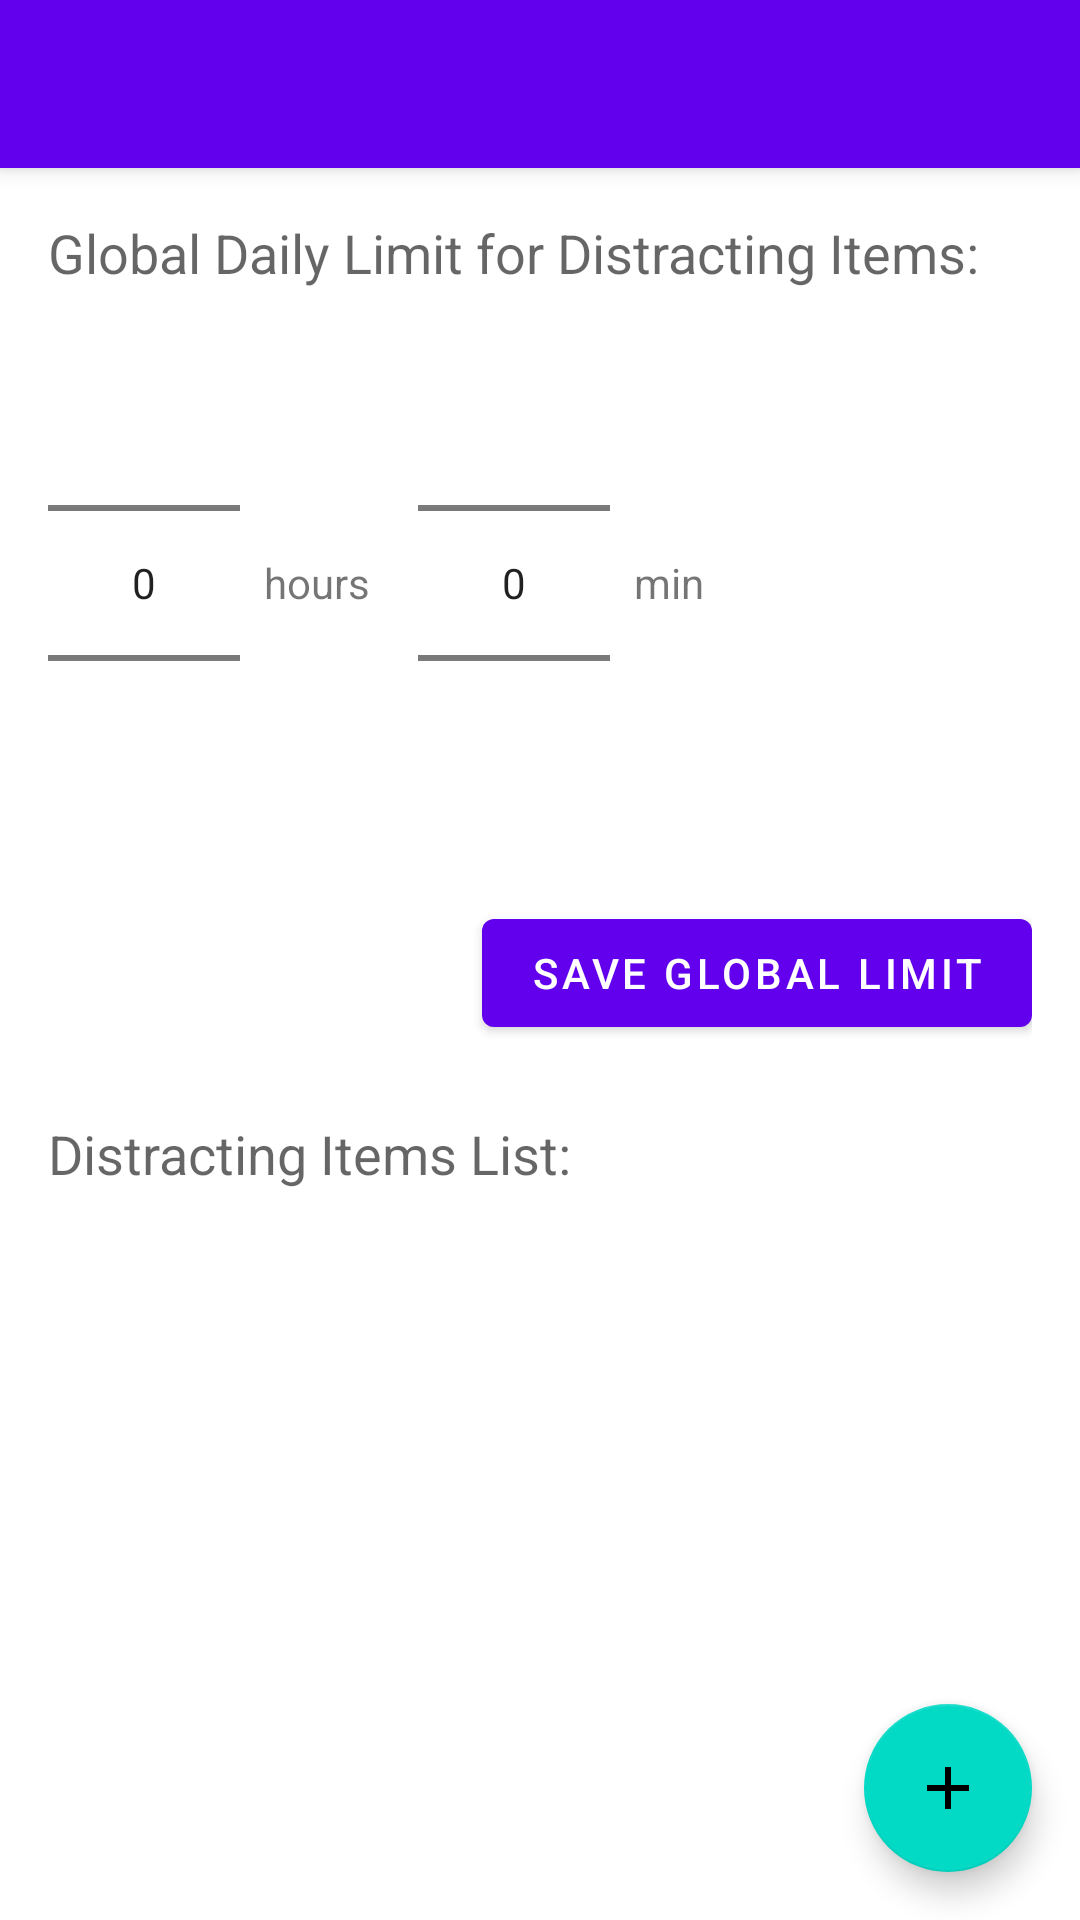

Screen size 1080w x 1920h. Icon name, then its box in pixels as (x1, y1, x2, y2):
Add new blocked item: (864, 1704, 1032, 1872)
